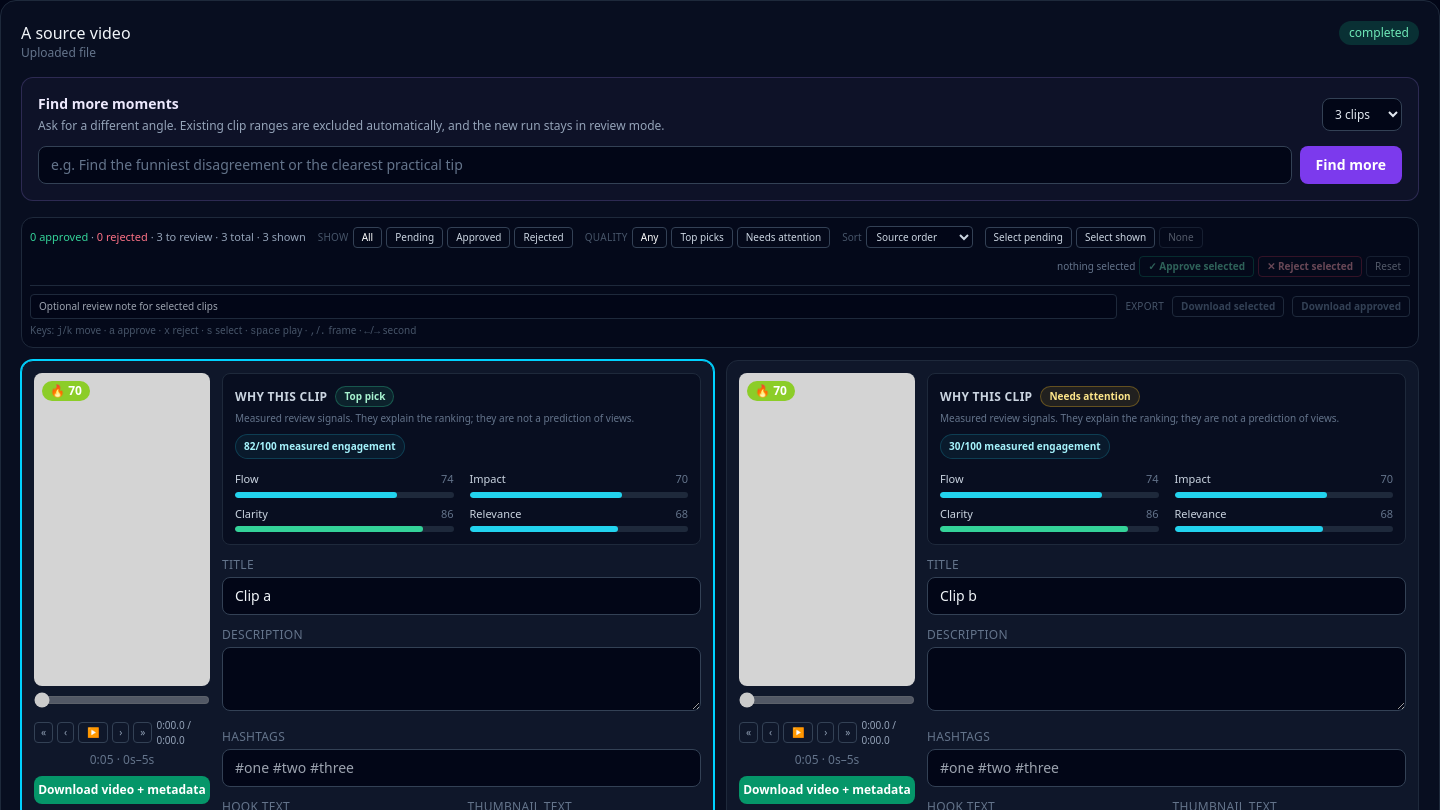
Test: JobCard review workflow › filters to top picks and clips needing attention
Click the button "Top picks" at x=702, y=237, box [671,226,733,248]
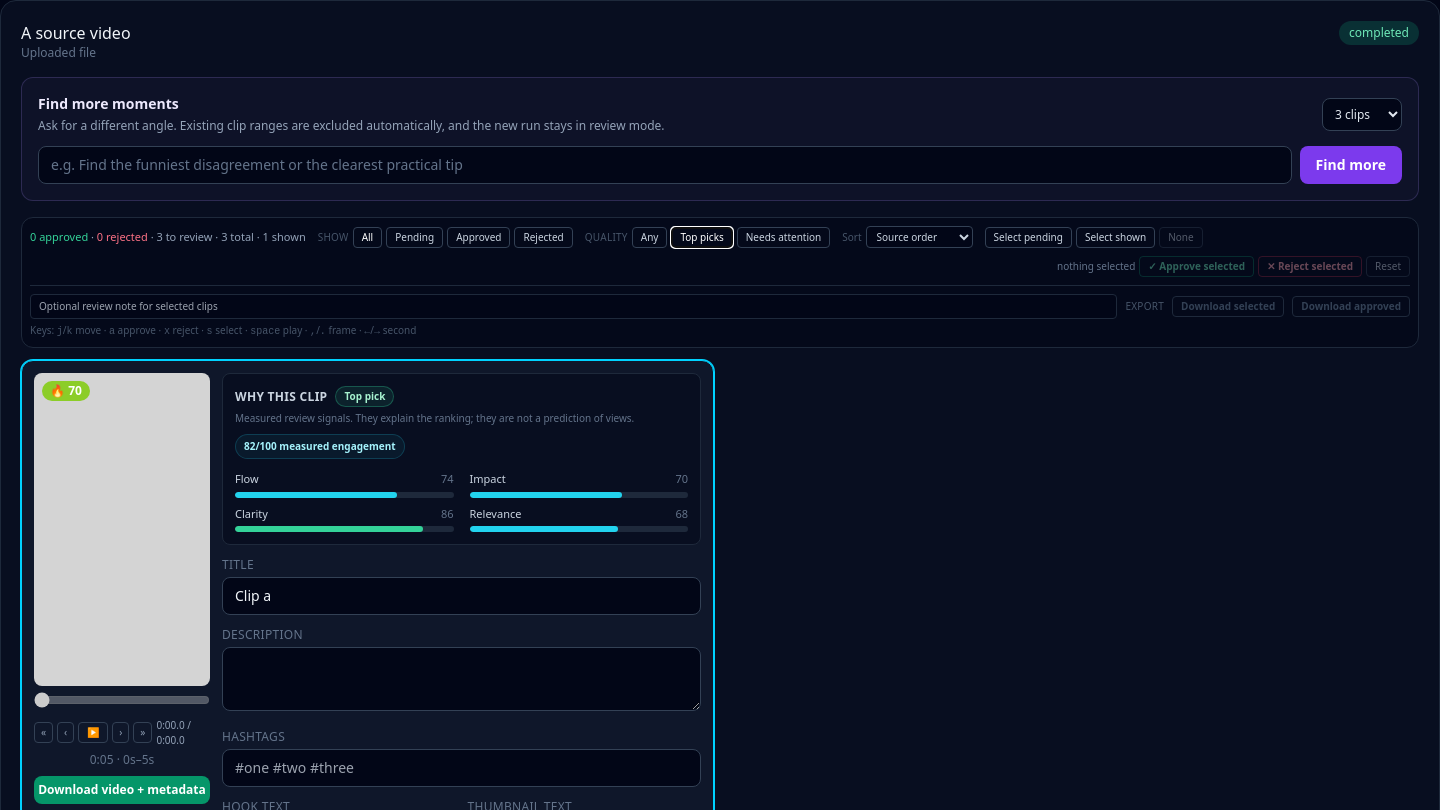
Click the button "Needs attention" at x=784, y=237, box [737,226,830,248]
(page scrolled)
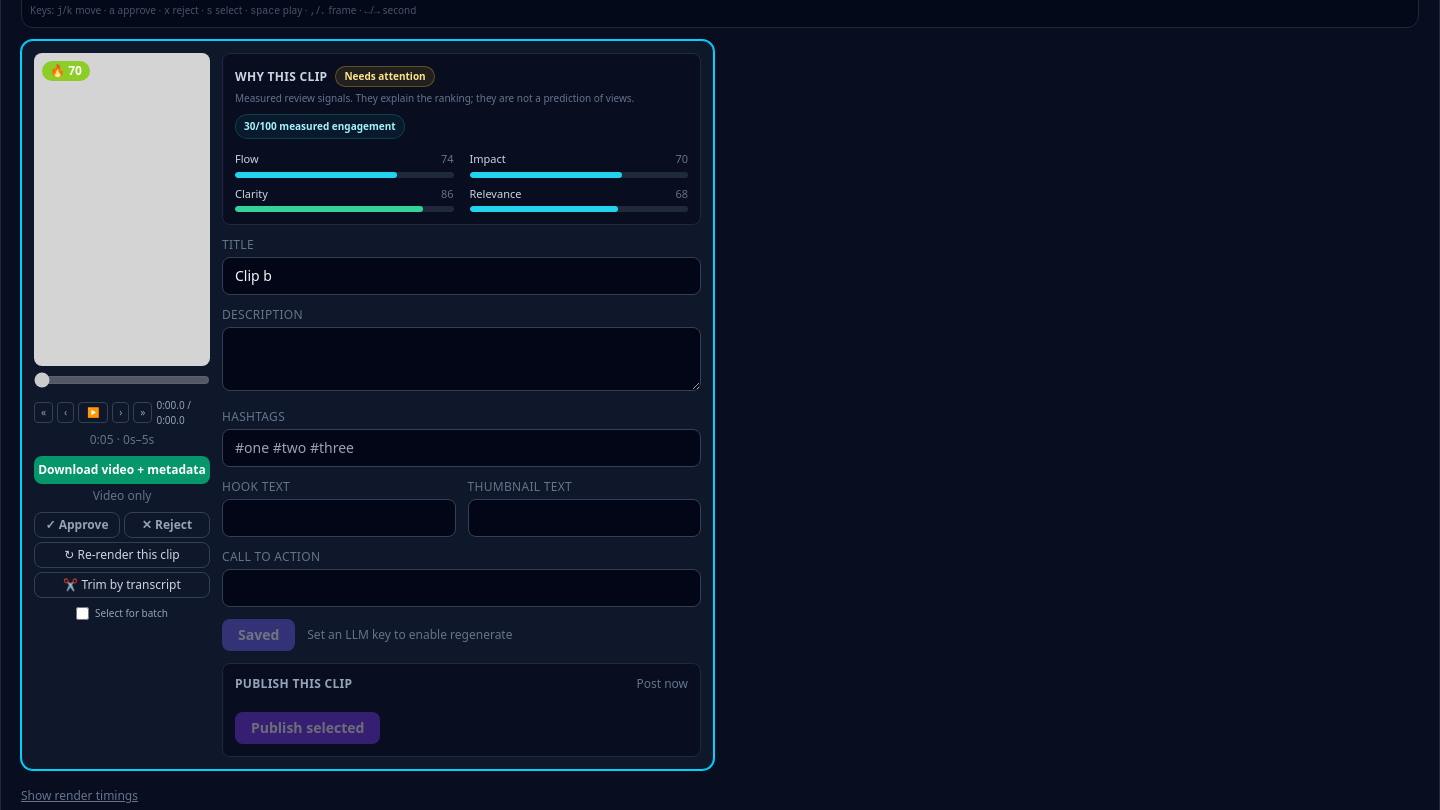
Expected: the element with test id "clip-b" is shown, [21,40,714,770]
